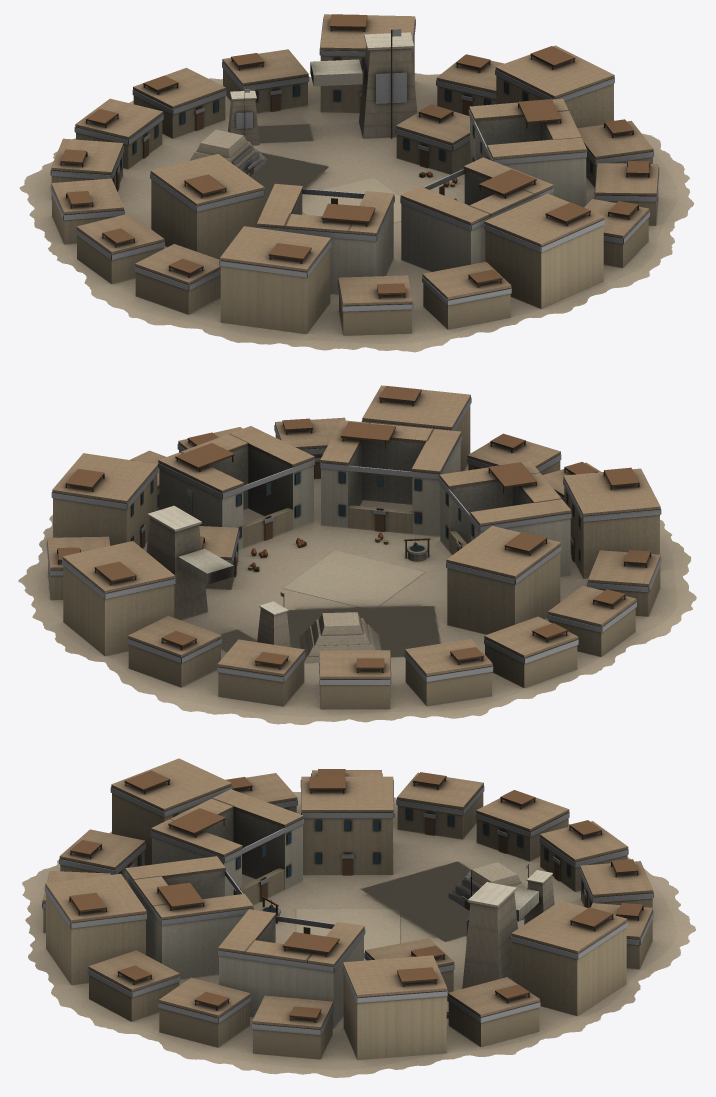
Rendered from bronze-town-big-b-nile.glb.
3 renders of one model, top to bottom at view 1: azimuth 30°, elevation 25°; view 2: azimuth 150°, elevation 25°; view 3: azimuth 270°, elevation 25°, orthographic.
Parts seen in each view (by area): view 1: LOD0; view 2: LOD0; view 3: LOD0.
Boxes of the visible parts, x1=… form: LOD0: x1=19, y1=14, x2=693, y2=352; LOD0: x1=18, y1=385, x2=696, y2=724; LOD0: x1=22, y1=758, x2=695, y2=1077.
Size of what is drawn, in the model's own units: 8.02 by 1.42 by 7.96.
Materials: 3 (3 with a texture image).
